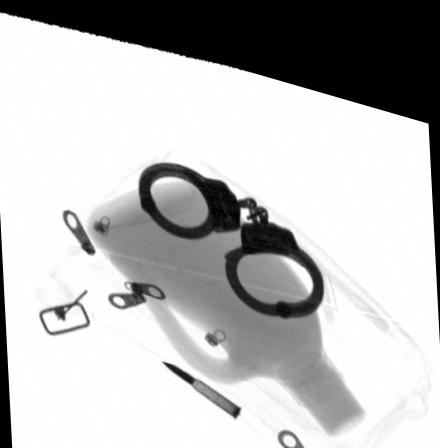Bullet: (157, 349, 242, 405)
HandCuffs: (136, 152, 322, 303)
